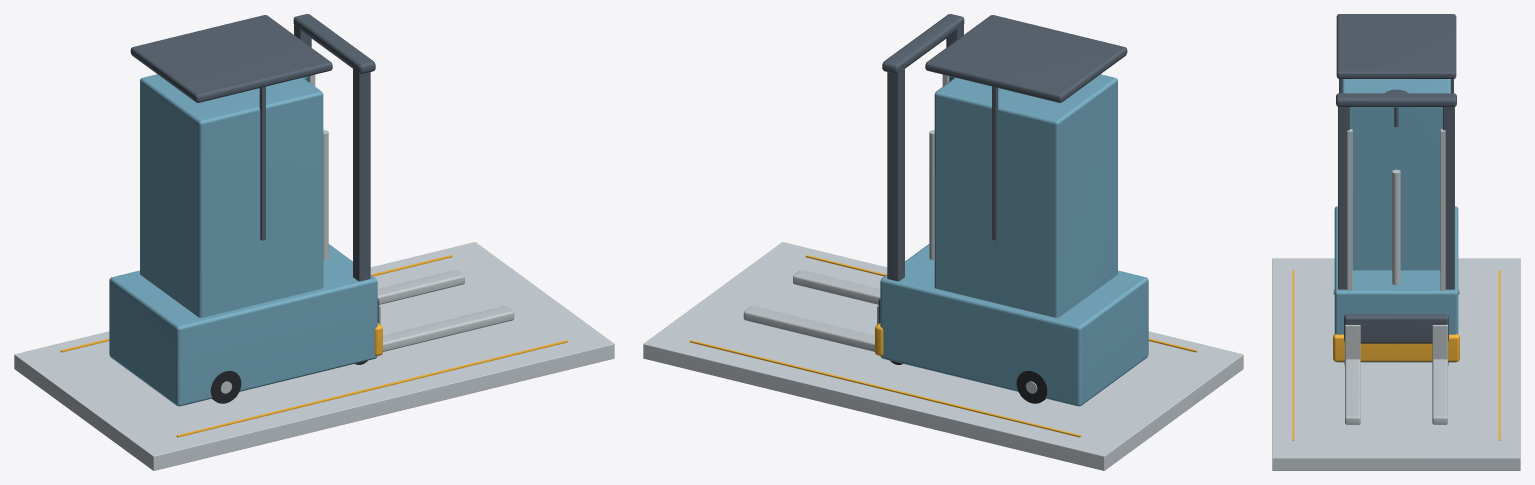
3 renders of one model, left to right at view 1: azimuth 30°, elevation 25°; view 2: azimuth 150°, elevation 25°; view 3: azimuth 270°, elevation 25°, orthographic. The views are drawn at different scales.
Parts seen in each view (by area): view 1: Ground plane, Operator compartment and guard, Power unit, Overhead guard, Lift mast outer rail, Fork tine / pallet handling, Mast crosshead, Fork tine / pallet handling.001, Concept clearance guide, Overhead guard upright, Hydraulic lift cylinder, Driven wheel / tyre; view 2: Ground plane, Operator compartment and guard, Power unit, Overhead guard, Lift mast outer rail.001, Fork tine / pallet handling.001, Mast crosshead, Fork tine / pallet handling, Concept clearance guide.001, Overhead guard upright.001, Hydraulic lift cylinder, Driven wheel / tyre.001; view 3: Ground plane, Operator compartment and guard, Overhead guard, Power unit, Fork carriage, Front safety bumper, Lift mast outer rail, Lift mast outer rail.001, Mast crosshead, Fork tine / pallet handling, Fork tine / pallet handling.001, Hydraulic lift cylinder (+6 smaller).
Boxes of the visible parts, x1,y1,x2,y2 form: Ground plane: (14,242,614,470); Operator compartment and guard: (140,74,323,317); Power unit: (109,244,377,406); Overhead guard: (130,15,332,102); Lift mast outer rail: (353,62,370,281); Fork tine / pallet handling: (383,306,514,351); Mast crosshead: (293,14,375,73); Fork tine / pallet handling.001: (377,270,464,304); Concept clearance guide: (176,340,568,437); Overhead guard upright: (259,86,265,240); Hydraulic lift cylinder: (323,130,328,260); Driven wheel / tyre: (210,371,241,403); Ground plane: (643,242,1243,470); Operator compartment and guard: (934,74,1117,317); Power unit: (880,244,1148,406); Overhead guard: (925,15,1127,102); Lift mast outer rail.001: (887,62,904,281); Fork tine / pallet handling.001: (743,306,874,351); Mast crosshead: (882,14,964,73); Fork tine / pallet handling: (793,270,880,304); Concept clearance guide.001: (689,340,1081,437); Overhead guard upright.001: (992,86,998,240); Hydraulic lift cylinder: (929,130,934,260); Driven wheel / tyre.001: (1016,371,1047,403); Ground plane: (1272,258,1520,470); Operator compartment and guard: (1342,79,1450,270); Overhead guard: (1336,14,1456,78); Power unit: (1334,206,1458,362); Fork carriage: (1344,314,1448,343); Front safety bumper: (1333,334,1459,361); Lift mast outer rail: (1338,107,1349,289); Lift mast outer rail.001: (1443,107,1454,289); Mast crosshead: (1336,93,1456,106); Fork tine / pallet handling: (1345,359,1360,424); Fork tine / pallet handling.001: (1432,359,1447,424); Hydraulic lift cylinder: (1392,169,1400,285).
Size of the model in its own units: 3.9 by 2.66 by 2.04.
